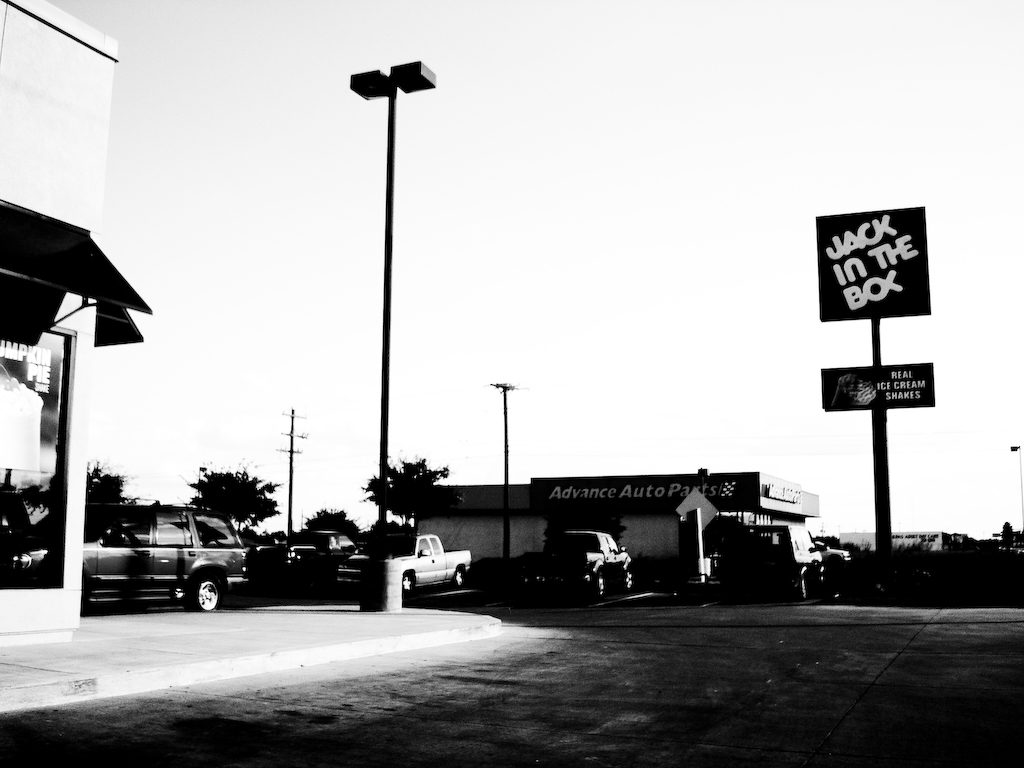Car: (72, 516, 254, 622), (551, 531, 634, 603)
